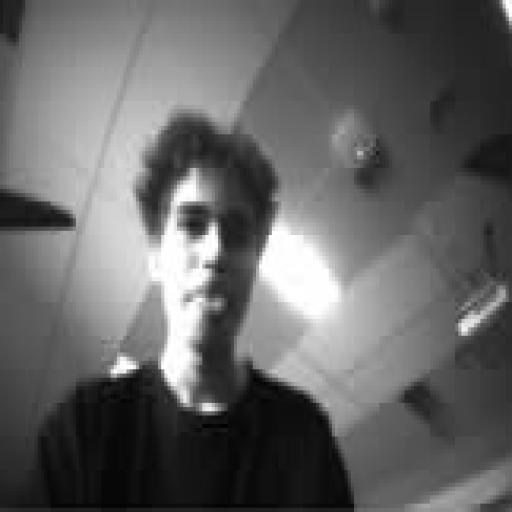human: (35, 110, 353, 511)
